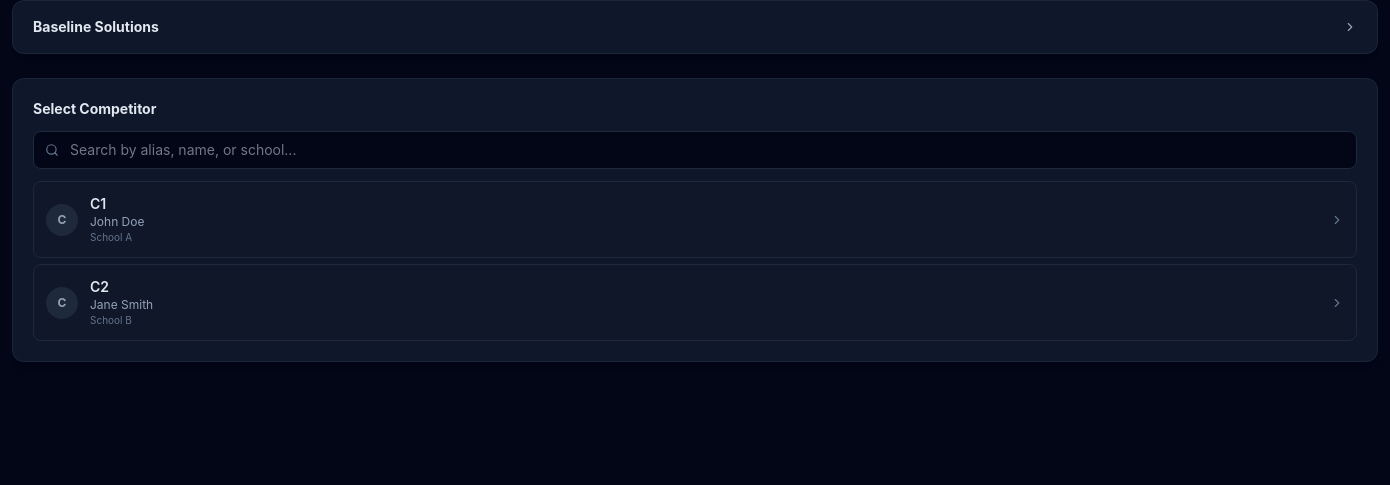
Test case: SubmissionsView Page › Admin/Jury view › allows switching competitor
The width and height of the screenshot is (1390, 485).
Expected: the text "C1" is shown, [90,195,106,212]
Click the button "C C1 John Doe School A" at (62, 220), box [33,181,1357,258]
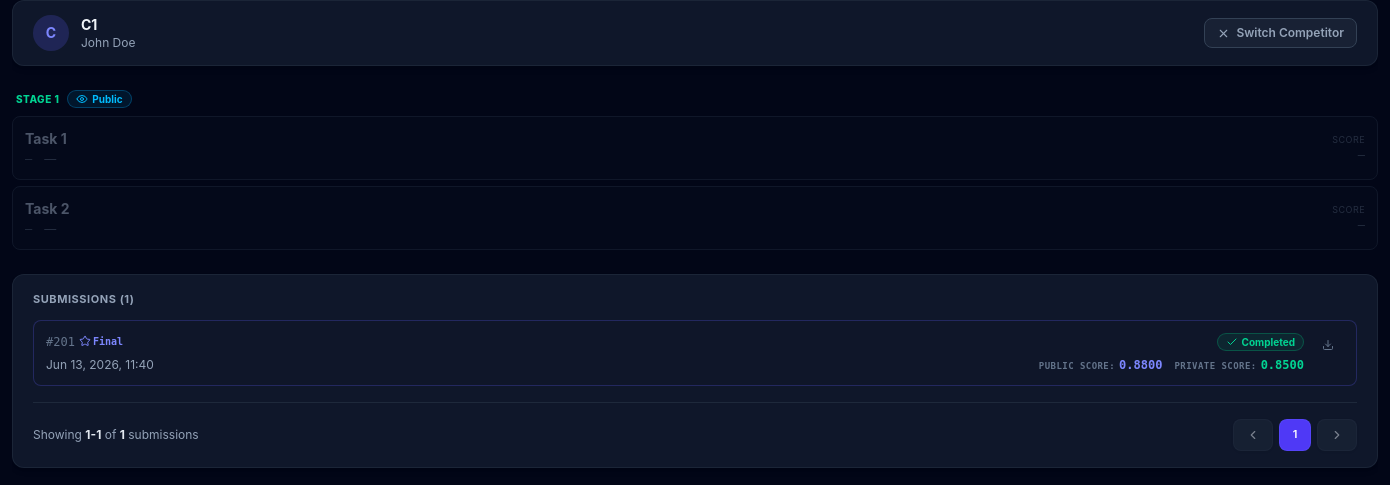
Expected: the button "Switch Competitor" is shown
Click the button "Switch Competitor" at (1281, 33), box [1204,18,1357,48]
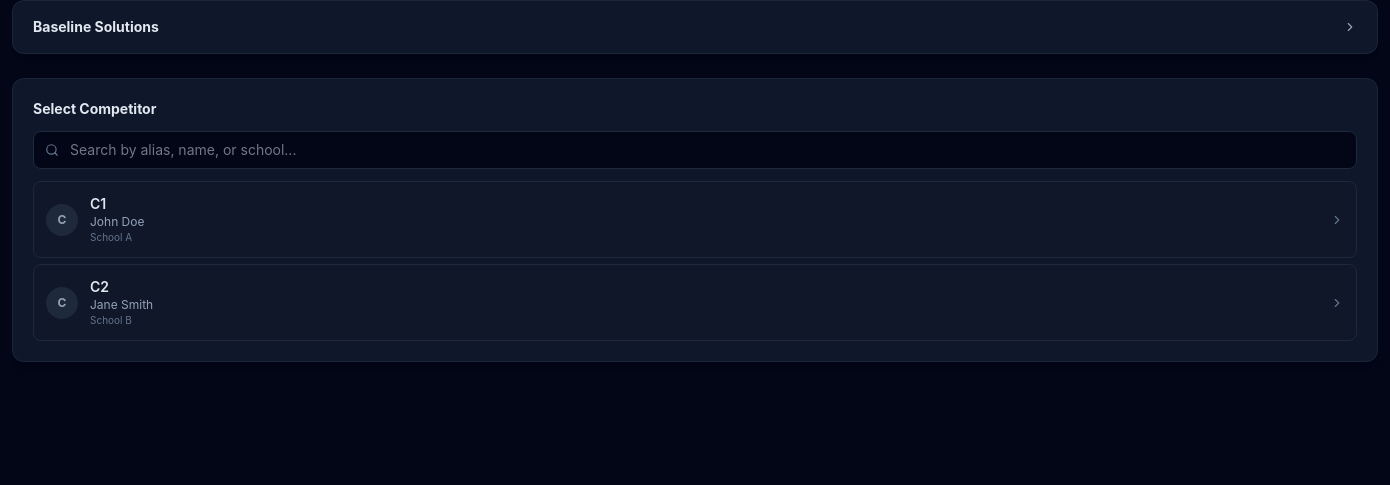
Expected: the text "Select Competitor" is shown, [33,100,156,117]
Expected: the button "Switch Competitor" is gone
